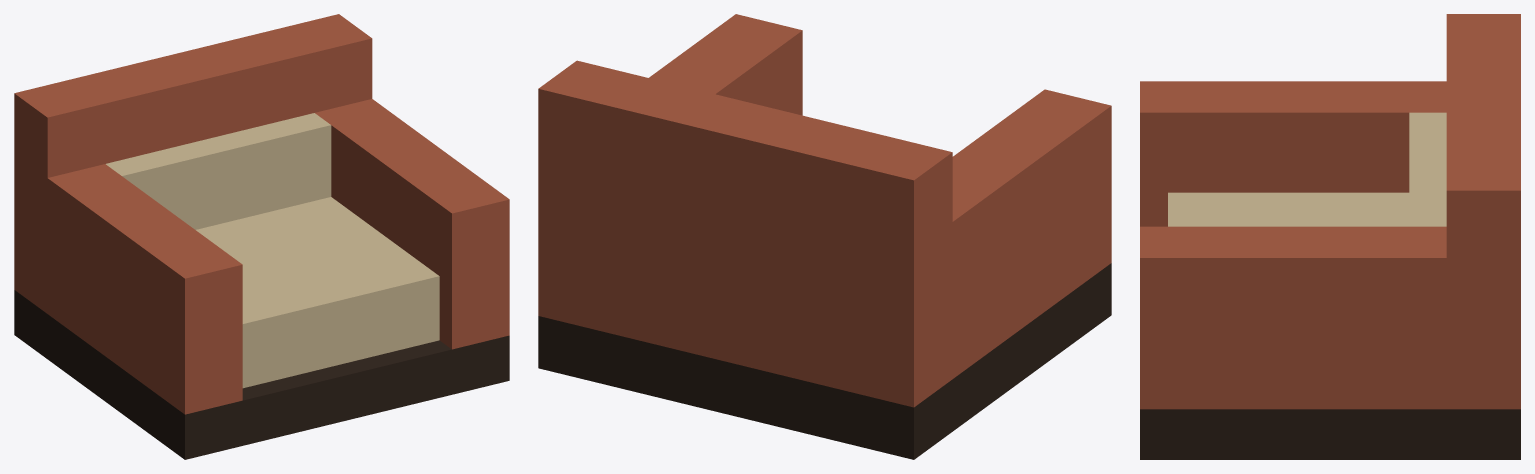
Rendered from armchair-980c7c.glb.
3 views of the same model, side by side, from view 1: azimuth 30°, elevation 25°; view 2: azimuth 150°, elevation 25°; view 3: azimuth 270°, elevation 25° (orthographic). The views are drawn at different scales.
Size of the model in its own units: 0.9 by 0.64 by 0.82.
